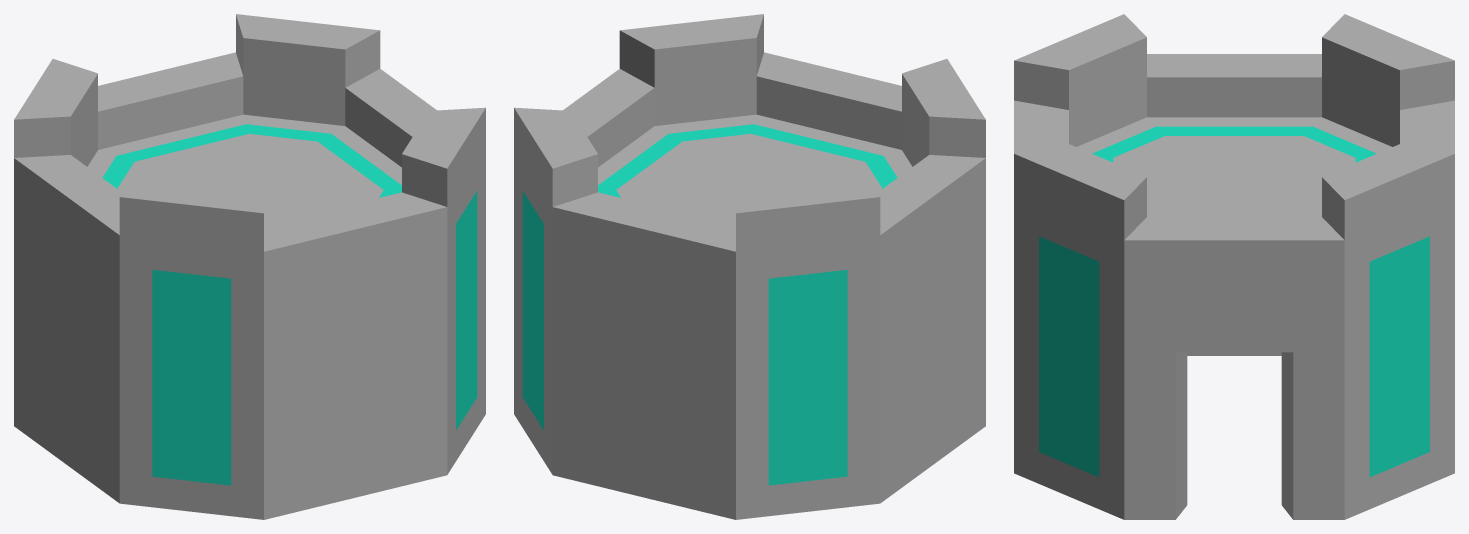
File: Warrior Tower lev 2.fbx
3 renders of one model, left to right at view 1: azimuth 30°, elevation 25°; view 2: azimuth 150°, elevation 25°; view 3: azimuth 270°, elevation 25°, orthographic. The views are drawn at different scales.
Parts seen in each view (by area): view 1: Torre Wizzard.019; view 2: Torre Wizzard.019; view 3: Torre Wizzard.019.
Boxes of the visible parts, <box> form: Torre Wizzard.019: <box>14,14,485,519</box>; Torre Wizzard.019: <box>514,14,985,519</box>; Torre Wizzard.019: <box>1014,14,1454,519</box>.
Bounding box in the file's own units: 15 × 12 × 15.
